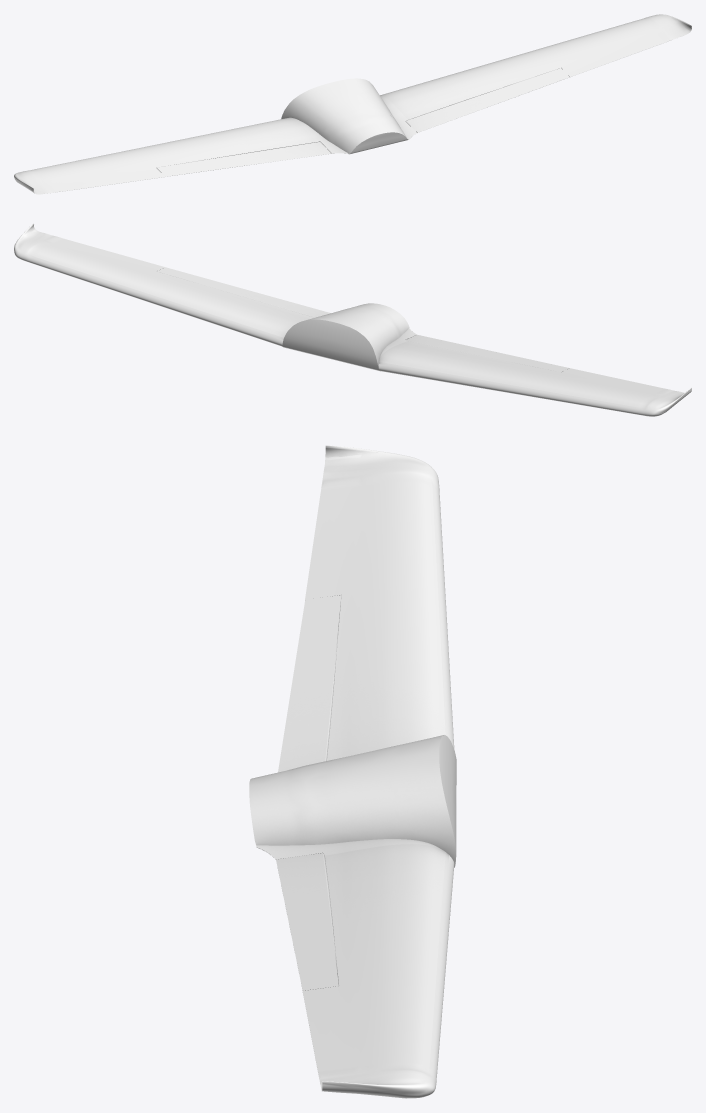
The model's file is Dragonfly_MainWing.fbx.
3 views of the same model, one above another, from view 1: azimuth 30°, elevation 25°; view 2: azimuth 150°, elevation 25°; view 3: azimuth 270°, elevation 25° (orthographic). The views are drawn at different scales.
Parts seen in each view (by area): view 1: MainWing, Body1.009, Body1.010; view 2: MainWing, Body1.009, Body1.010; view 3: MainWing, Body1.010, Body1.009.
Part boxes in pixels (box(x1,y1,x2,y2)): MainWing: box(14, 14, 691, 194); Body1.009: box(405, 68, 569, 132); Body1.010: box(156, 141, 331, 176); MainWing: box(14, 223, 691, 416); Body1.009: box(157, 267, 330, 317); Body1.010: box(406, 334, 569, 372); MainWing: box(249, 445, 456, 1098); Body1.010: box(278, 595, 341, 772); Body1.009: box(276, 853, 338, 990).
Size of the model in its own units: 668 by 36.18 by 91.18.
